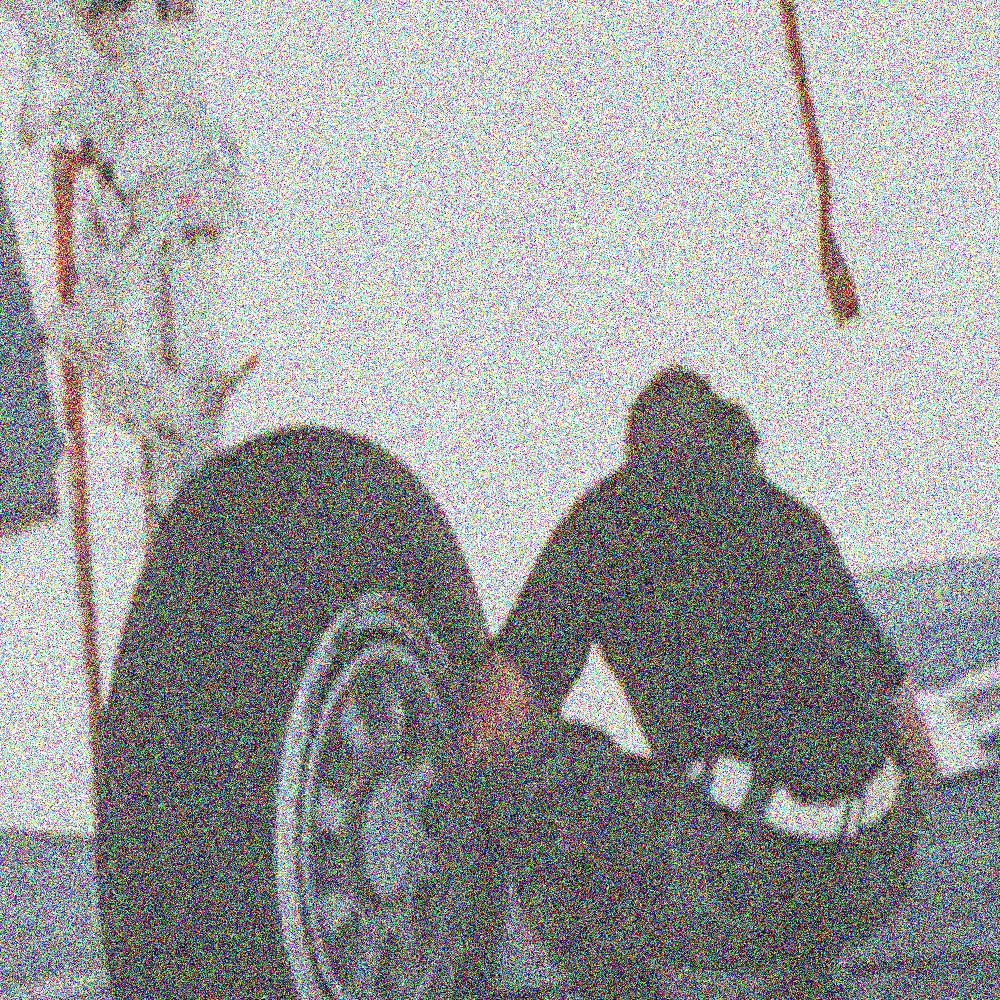wheel: (52, 393, 543, 1000)
